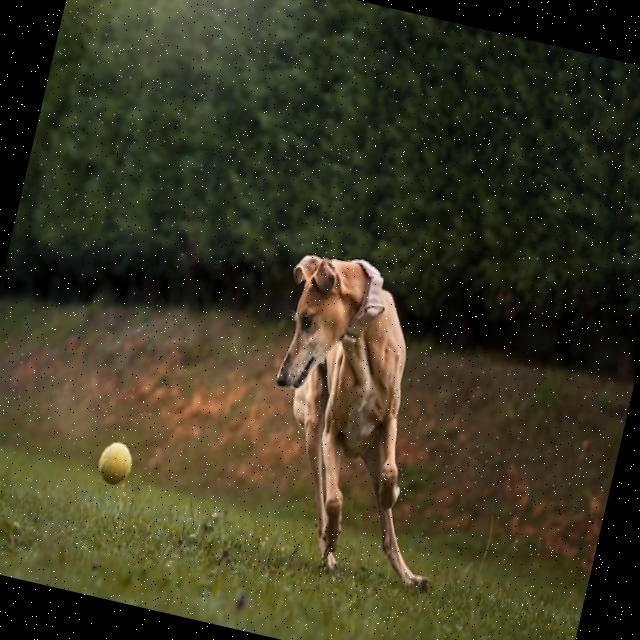Dog: (230, 246, 498, 593)
